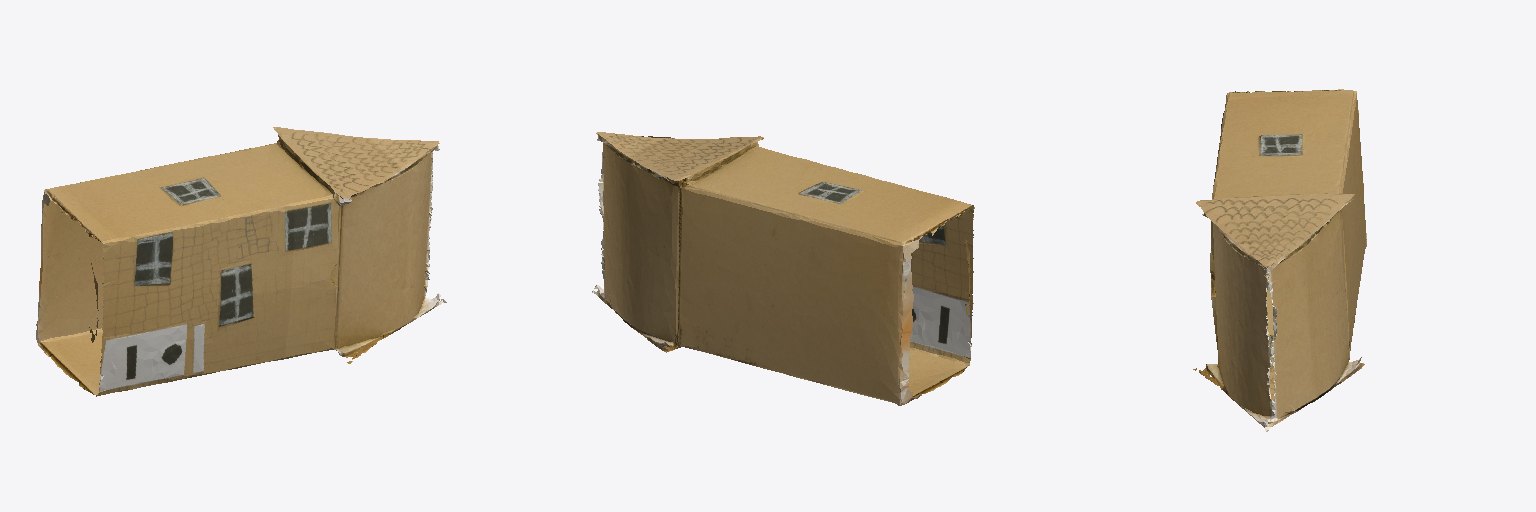
3 renders of one model, left to right at view 1: azimuth 30°, elevation 25°; view 2: azimuth 150°, elevation 25°; view 3: azimuth 270°, elevation 25°, orthographic.
Bounding box in the file's own units: 5.05 × 2.33 × 2.07.
Materials: 1 (1 with a texture image).